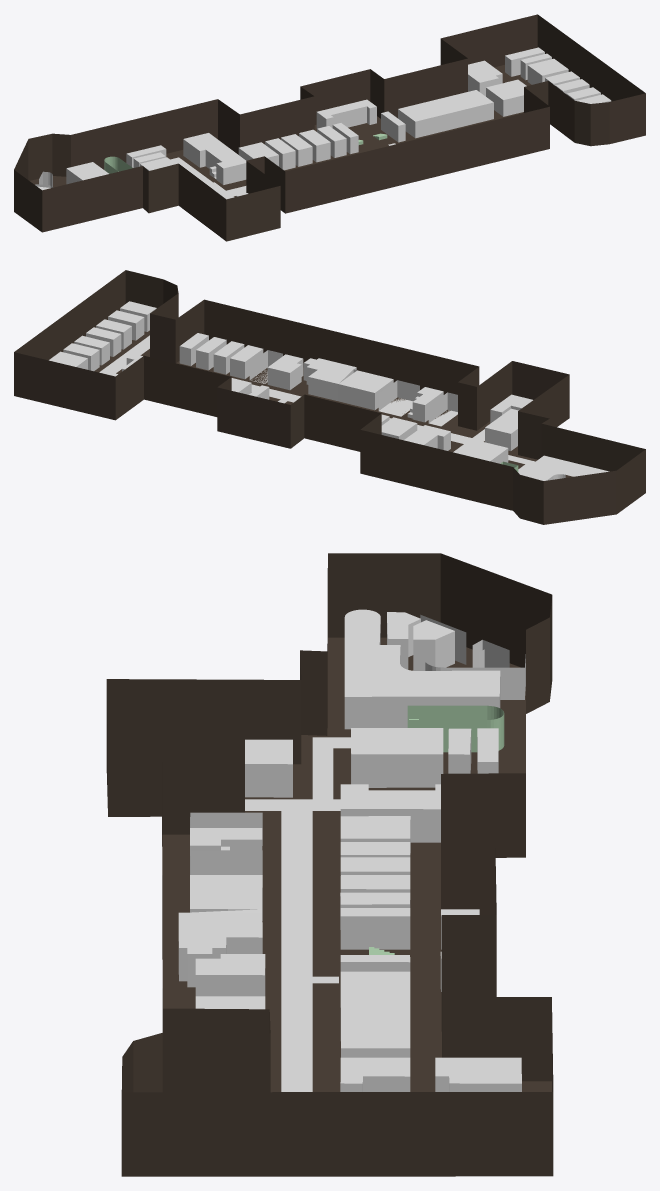
File: sekand_floor.glb
3 renders of one model, top to bottom at view 1: azimuth 30°, elevation 25°; view 2: azimuth 150°, elevation 25°; view 3: azimuth 270°, elevation 25°, orthographic. The views are drawn at different scales.
Visible parts, largest first — view 1: disc, CAO, CLO, Plane.003, MITD, DILG, CSO, COUN.3, COUN.2, CANTEEN, path, COUN.1 (+7 smaller); view 2: disc, CMO, path, CANTEEN, OFTC, COUN.12, C.AD.O, CLO, PESO, COUN.10, PIO, COUN.13 (+13 smaller); view 3: disc, path, CANTEEN, CMO, CAO, PIO, CLO, DILG, CR.M, C.AD.O, Plane, MITD (+18 smaller).
Part boxes in pixels (bbox=[...]): disc: bbox=[14, 14, 645, 241]; CAO: bbox=[398, 90, 493, 138]; CLO: bbox=[183, 133, 246, 184]; Plane.003: bbox=[316, 99, 376, 128]; MITD: bbox=[486, 83, 523, 116]; DILG: bbox=[468, 60, 502, 96]; CSO: bbox=[527, 58, 568, 84]; COUN.3: bbox=[299, 129, 330, 162]; COUN.2: bbox=[281, 134, 312, 166]; CANTEEN: bbox=[66, 162, 108, 184]; path: bbox=[170, 79, 526, 196]; COUN.1: bbox=[265, 138, 295, 170]; disc: bbox=[14, 270, 645, 524]; CMO: bbox=[303, 358, 393, 410]; path: bbox=[99, 335, 535, 473]; CANTEEN: bbox=[519, 455, 609, 480]; OFTC: bbox=[378, 380, 419, 416]; COUN.12: bbox=[267, 354, 303, 390]; C.AD.O: bbox=[485, 408, 518, 450]; CLO: bbox=[404, 425, 450, 450]; PESO: bbox=[428, 392, 457, 426]; COUN.10: bbox=[230, 345, 263, 379]; PIO: bbox=[462, 441, 508, 463]; COUN.13: bbox=[412, 387, 443, 422]; disc: bbox=[106, 553, 553, 1176]; path: bbox=[245, 737, 350, 1091]; CANTEEN: bbox=[344, 609, 500, 729]; CMO: bbox=[178, 875, 262, 987]; CAO: bbox=[340, 971, 410, 1057]; PIO: bbox=[351, 728, 443, 787]; CLO: bbox=[340, 784, 440, 842]; DILG: bbox=[435, 1057, 521, 1091]; CR.M: bbox=[340, 908, 410, 949]; C.AD.O: bbox=[245, 739, 292, 797]; Plane: bbox=[407, 705, 504, 752]; MITD: bbox=[340, 1057, 410, 1091].
Size of the model in its own units: 4.58 by 0.3999 by 1.6.
